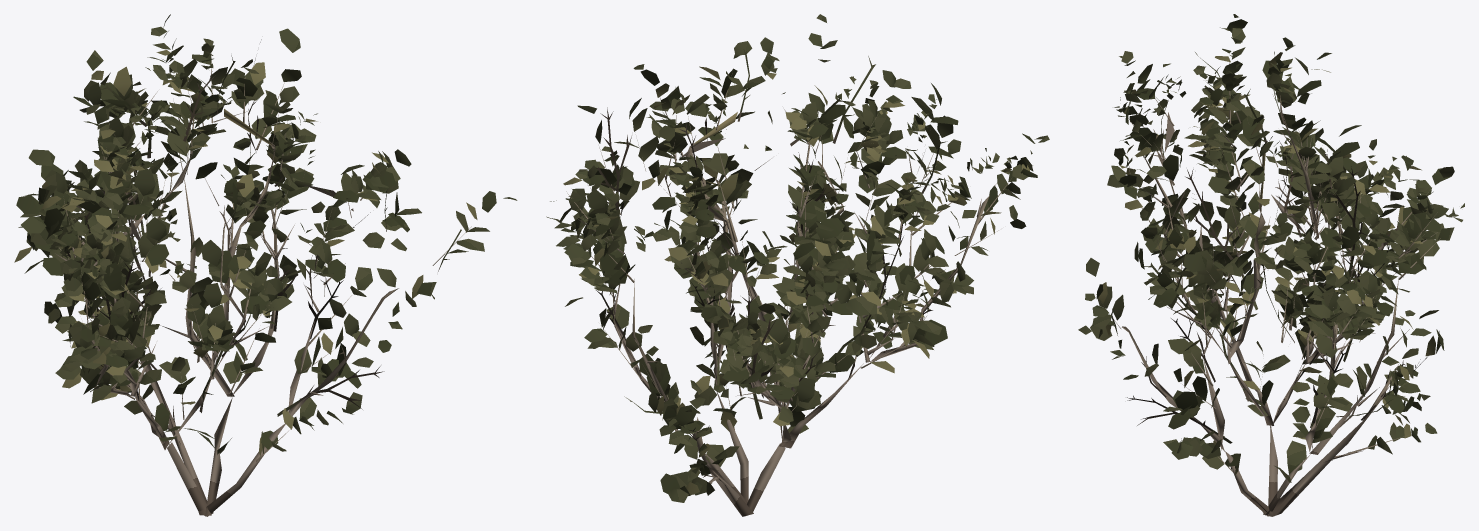
Rendered from ph_shrub_4.glb.
3 views of the same model, side by side, from view 1: azimuth 30°, elevation 25°; view 2: azimuth 150°, elevation 25°; view 3: azimuth 270°, elevation 25° (orthographic). The views are drawn at different scales.
Visible parts, largest first — view 1: ph_shrub_4_lod1; view 2: ph_shrub_4_lod1; view 3: ph_shrub_4_lod1.
Boxes of the visible parts, bbox=[...] form: ph_shrub_4_lod1: bbox=[14, 14, 517, 516]; ph_shrub_4_lod1: bbox=[546, 14, 1049, 516]; ph_shrub_4_lod1: bbox=[1078, 14, 1464, 516].
Size of the model in its own units: 1.51 by 1.66 by 1.23.
3 materials, 3 textured.
